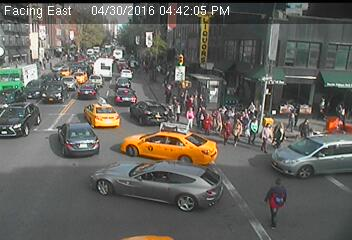neg: (70, 24, 91, 52), (107, 29, 127, 56), (90, 114, 110, 140), (80, 147, 99, 173), (14, 79, 33, 105), (57, 86, 76, 111), (21, 107, 39, 132), (192, 142, 210, 166), (64, 122, 81, 144), (153, 34, 169, 55), (139, 30, 154, 51), (50, 23, 64, 41), (257, 143, 269, 159), (23, 28, 34, 43), (172, 34, 182, 49), (99, 27, 108, 39)
pos: (257, 173, 298, 229), (332, 96, 351, 129), (297, 115, 318, 142), (312, 90, 329, 113), (178, 107, 194, 129), (195, 91, 210, 111), (160, 83, 174, 103), (163, 68, 176, 85), (172, 102, 184, 118), (41, 50, 53, 66), (39, 57, 47, 68)
